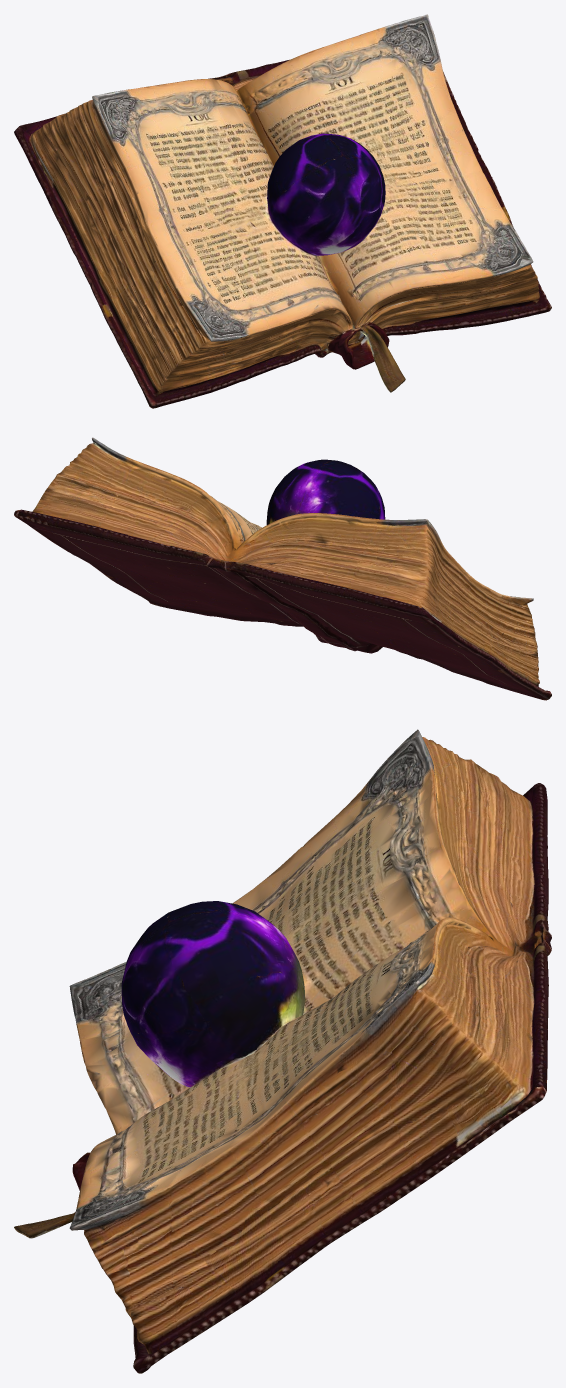
Rendered from book-web.glb.
The picture shows the model from 3 angles, top to bottom: view 1: azimuth 30°, elevation 25°; view 2: azimuth 150°, elevation 25°; view 3: azimuth 270°, elevation 25°; orthographic projection. The views are drawn at different scales.
Bounding box in the file's own units: 1.9 × 1.07 × 1.39.
1 material, 1 textured.
